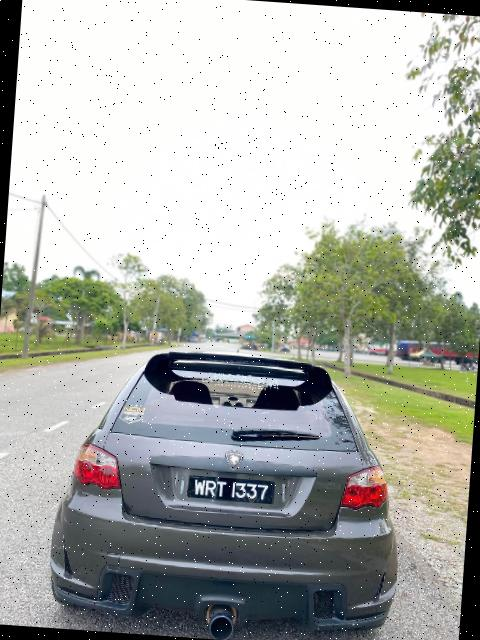License_Plate: (186, 476, 279, 511)
car: (44, 334, 422, 640)
